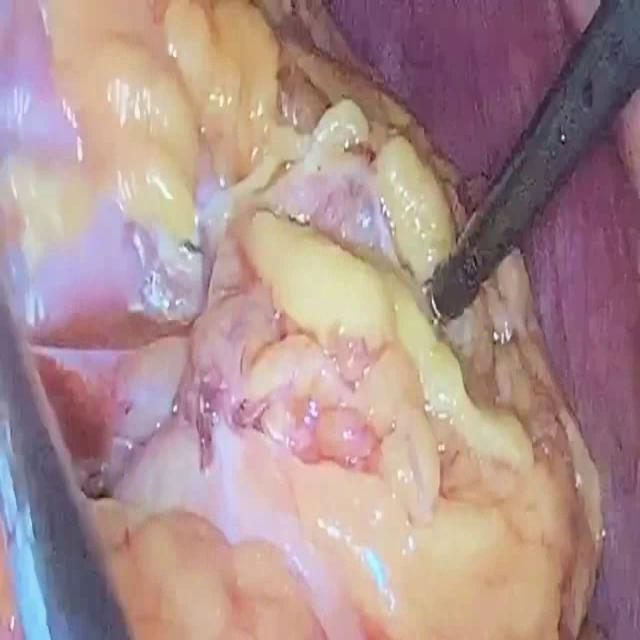surgical-area: (0, 2, 640, 636)
surgical-tool: (425, 1, 640, 337)
